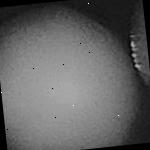colony: (0, 0, 148, 150), (111, 0, 150, 99)
